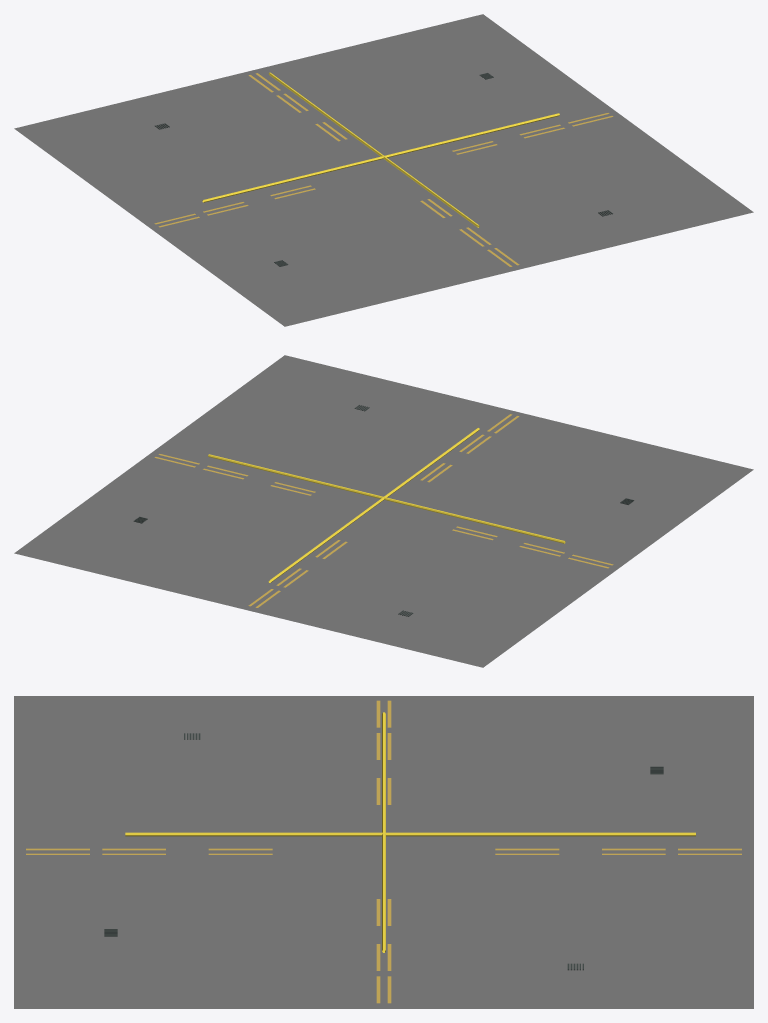
3 views of the same model, one above another, from view 1: azimuth 30°, elevation 25°; view 2: azimuth 150°, elevation 25°; view 3: azimuth 270°, elevation 25° (orthographic). The views are drawn at different scales.
Visible parts, largest first — view 1: RD43L | archived geometry, Fitted street and landscape details, RD43L | line, light and sprite surfaces; view 2: RD43L | archived geometry, Fitted street and landscape details, RD43L | line, light and sprite surfaces; view 3: RD43L | archived geometry, Fitted street and landscape details, RD43L | line, light and sprite surfaces.
Boxes of the visible parts, x1,y1,x2,y2 form: RD43L | archived geometry: [14, 14, 753, 326]; Fitted street and landscape details: [154, 73, 613, 266]; RD43L | line, light and sprite surfaces: [202, 72, 559, 227]; RD43L | archived geometry: [14, 355, 753, 667]; Fitted street and landscape details: [133, 405, 634, 616]; RD43L | line, light and sprite surfaces: [208, 428, 565, 582]; RD43L | archived geometry: [14, 696, 753, 1008]; Fitted street and landscape details: [26, 700, 741, 1003]; RD43L | line, light and sprite surfaces: [125, 712, 695, 952].
Size of the model in its own units: 16 by 0.4656 by 16.
